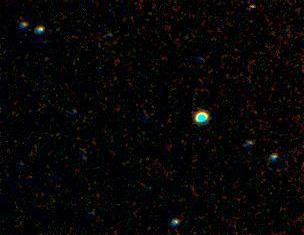star: (236, 0, 266, 23)
